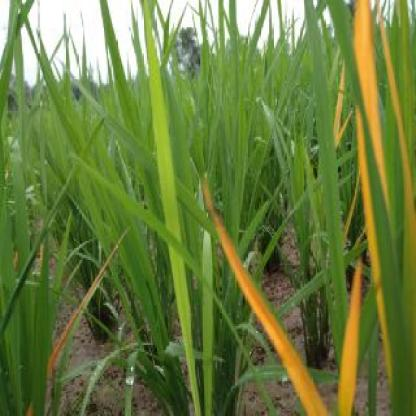Tungro: (349, 8, 388, 263), (341, 250, 367, 410)
